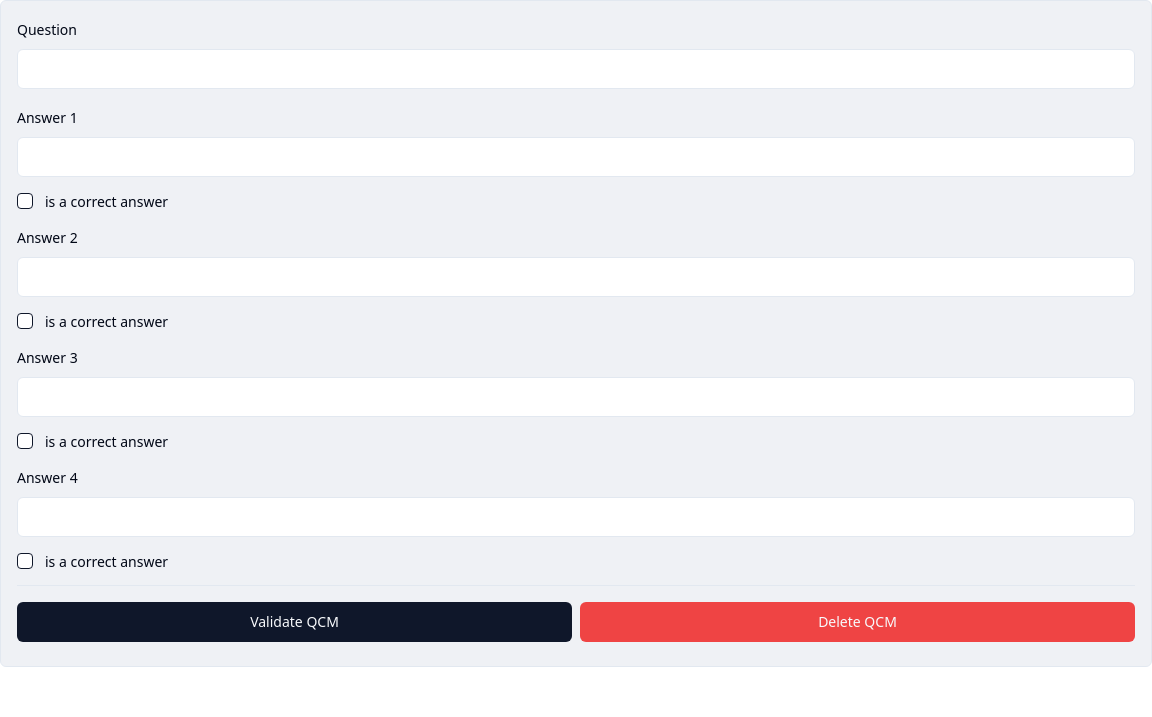
Test: CreateQCM Component › shows validation messages when submitting without values
The image size is (1152, 717).
Step 1. Click the button "Validate QCM" → x=294, y=622, box [17, 602, 572, 642]
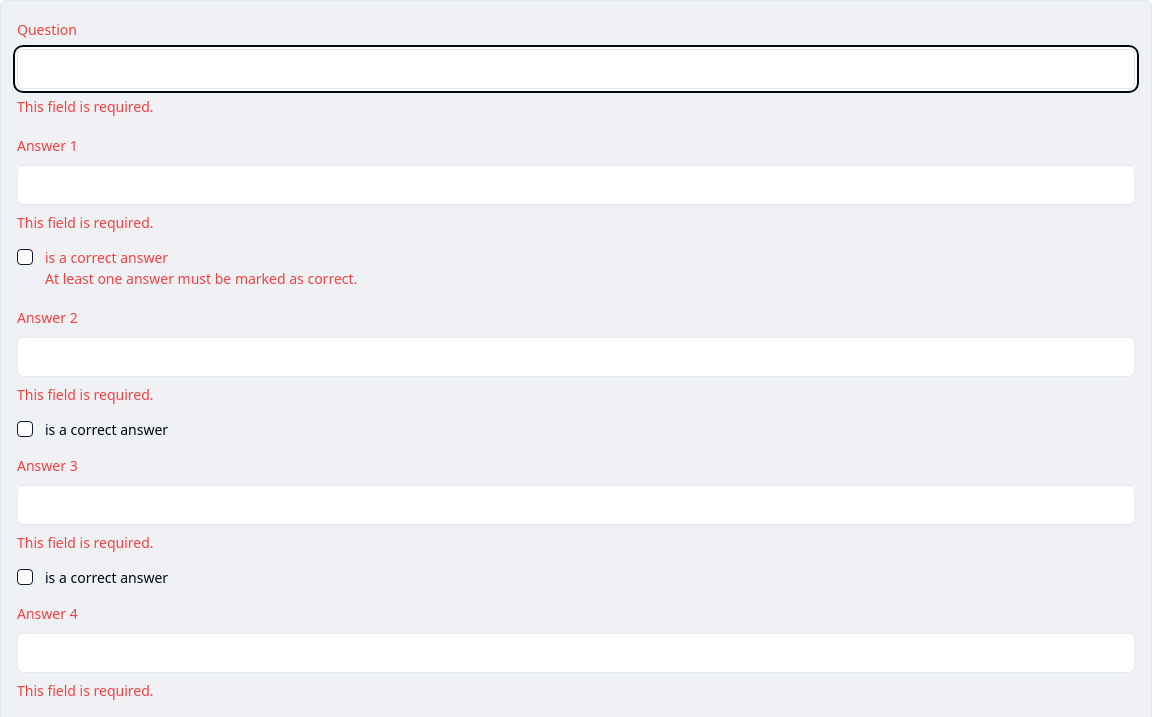
Expected: the text "This field is required." below "Question" is shown, [17, 97, 154, 116]
Expected: the text "This field is required." below "Answer 1" is shown, [17, 213, 154, 232]
Expected: the text "This field is required." below "Answer 2" is shown, [17, 385, 154, 404]
